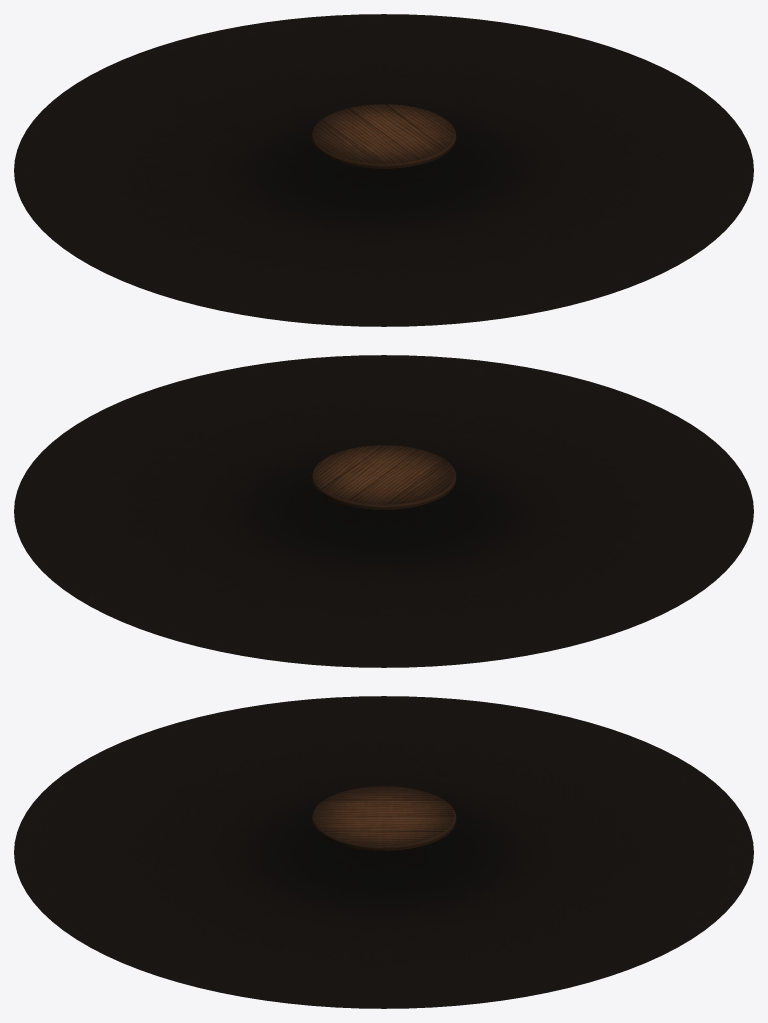
File: table.glb
The picture shows the model from 3 angles, top to bottom: view 1: azimuth 30°, elevation 25°; view 2: azimuth 150°, elevation 25°; view 3: azimuth 270°, elevation 25°; orthographic projection.
Visible parts, largest first — view 1: table; view 2: table; view 3: table.
Boxes of the visible parts, x1,y1,x2,y2 form: table: [14, 14, 753, 326]; table: [14, 355, 753, 667]; table: [14, 696, 753, 1008].
Bounding box in the file's own units: 92 × 5 × 92.
Materials: 1 (1 with a texture image).
